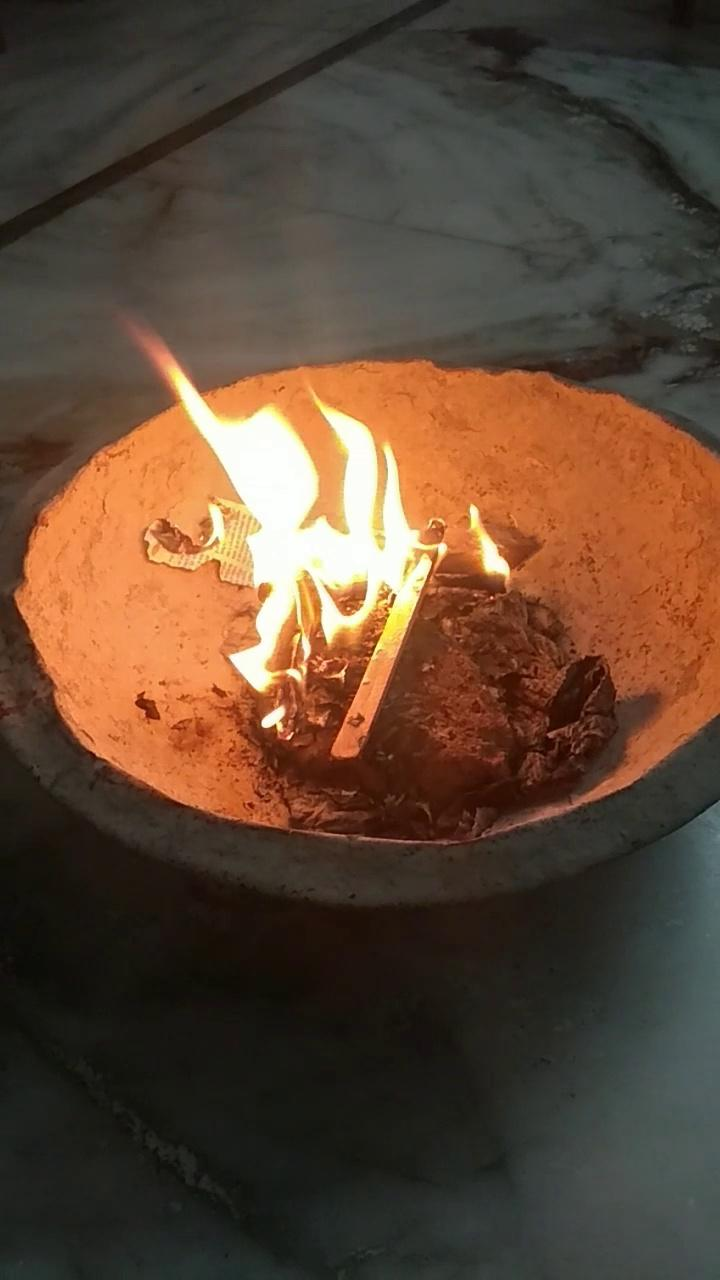fire: (107, 282, 514, 704)
